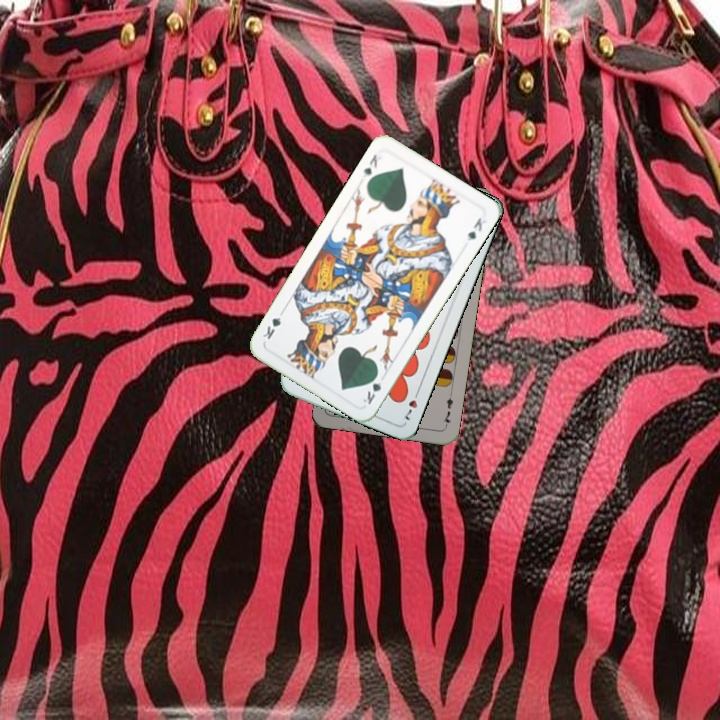E7: (440, 389, 456, 429)
GK: (359, 369, 385, 407), (358, 150, 380, 181)
H7: (399, 385, 422, 423)
